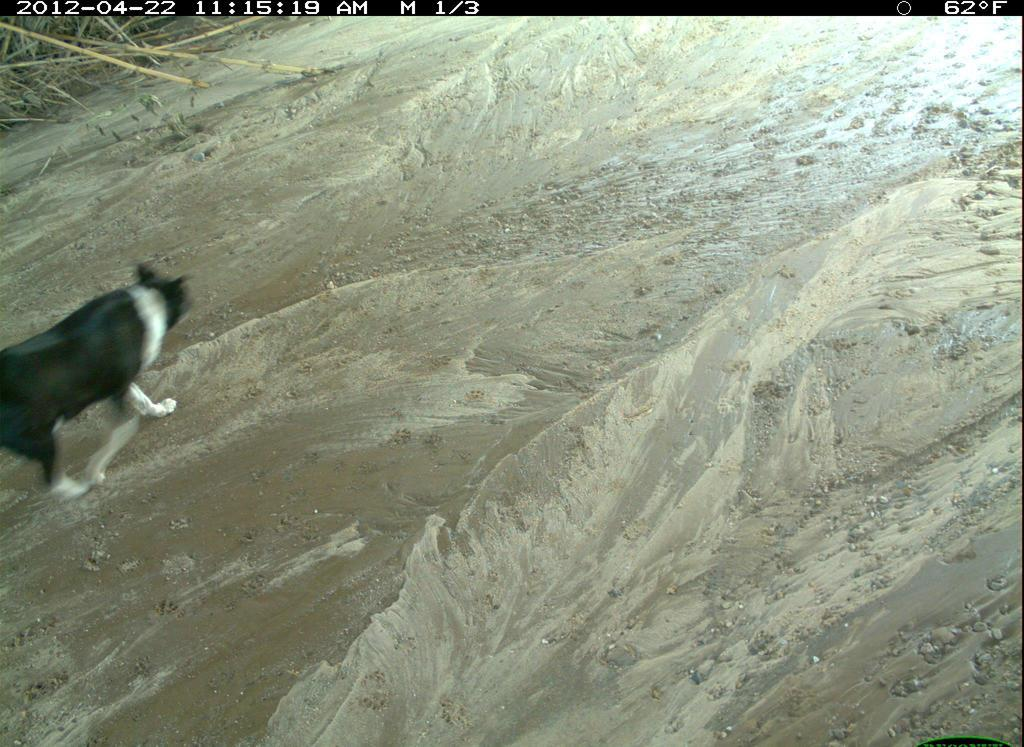dog: (13, 525, 392, 747)
